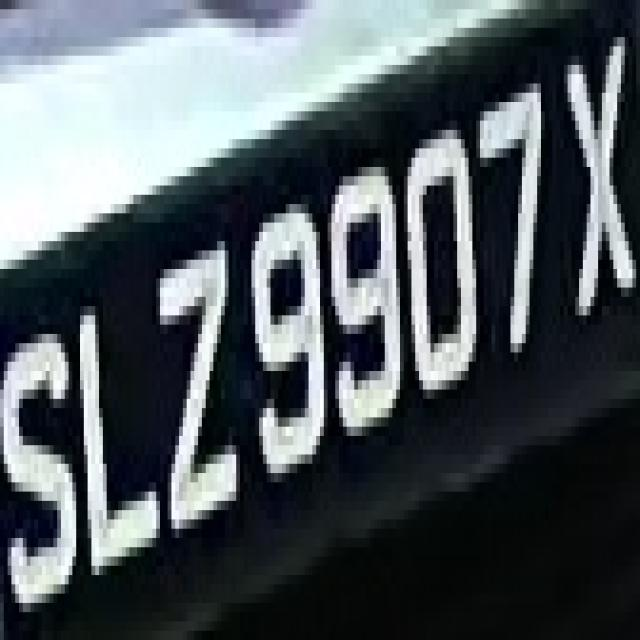0: (392, 111, 484, 436)
7: (461, 84, 556, 380)
9: (236, 186, 328, 520), (312, 158, 404, 464)
L: (65, 269, 160, 612)
X: (560, 0, 640, 343)
Z: (145, 232, 240, 538)
